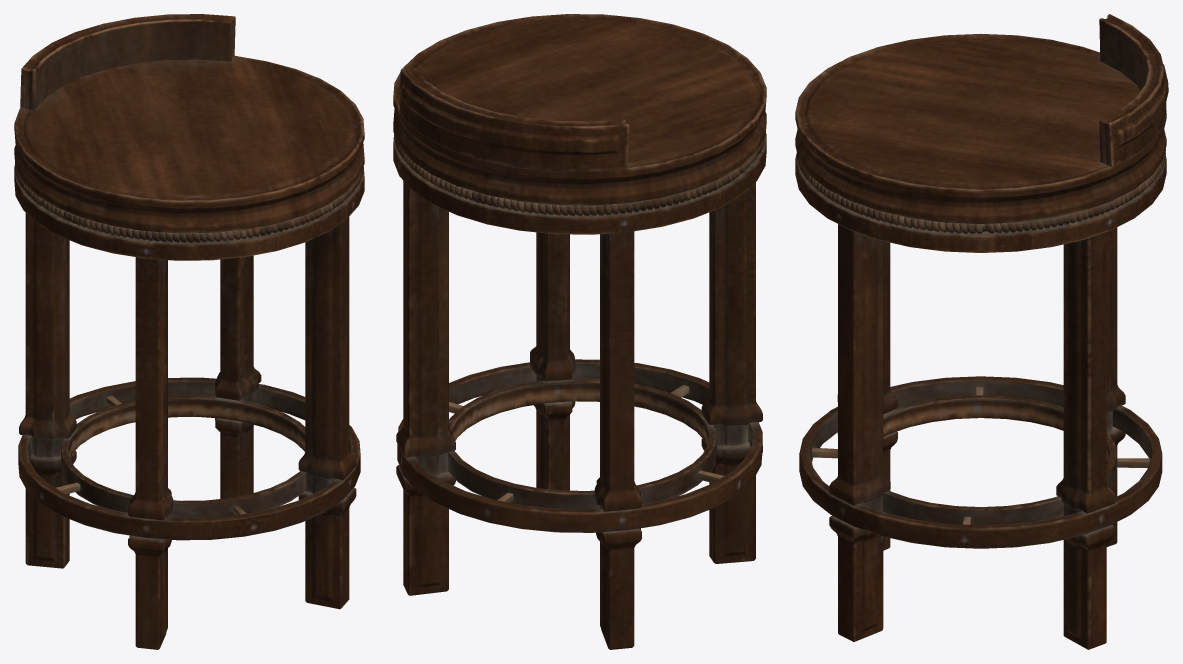
File: bar_chair_round_01.glb
3 renders of one model, left to right at view 1: azimuth 30°, elevation 25°; view 2: azimuth 150°, elevation 25°; view 3: azimuth 270°, elevation 25°, orthographic. The views are drawn at different scales.
Parts seen in each view (by area): view 1: bar_chair_round_01; view 2: bar_chair_round_01; view 3: bar_chair_round_01.
Part boxes in pixels (x1,y1,x2,y2): bar_chair_round_01: (14,14,364,649); bar_chair_round_01: (393,14,766,649); bar_chair_round_01: (795,14,1168,649).
Bounding box in the file's own units: 0.4832 × 0.7505 × 0.486.
1 material, 1 textured.
